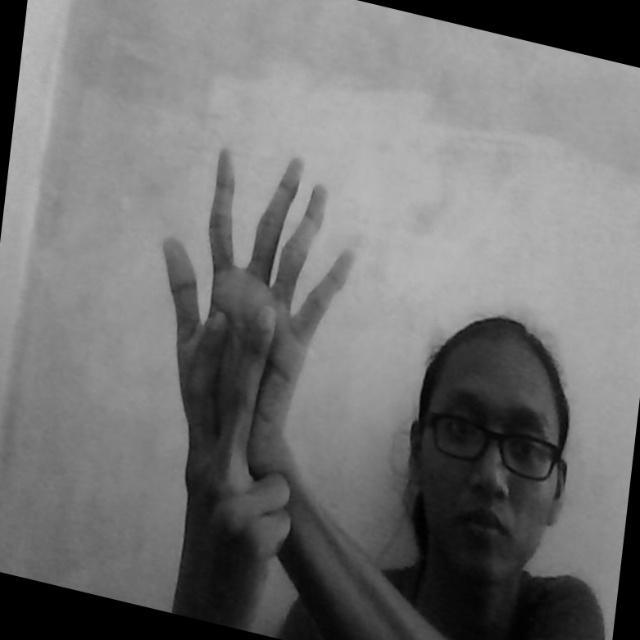N: (149, 142, 361, 467)
